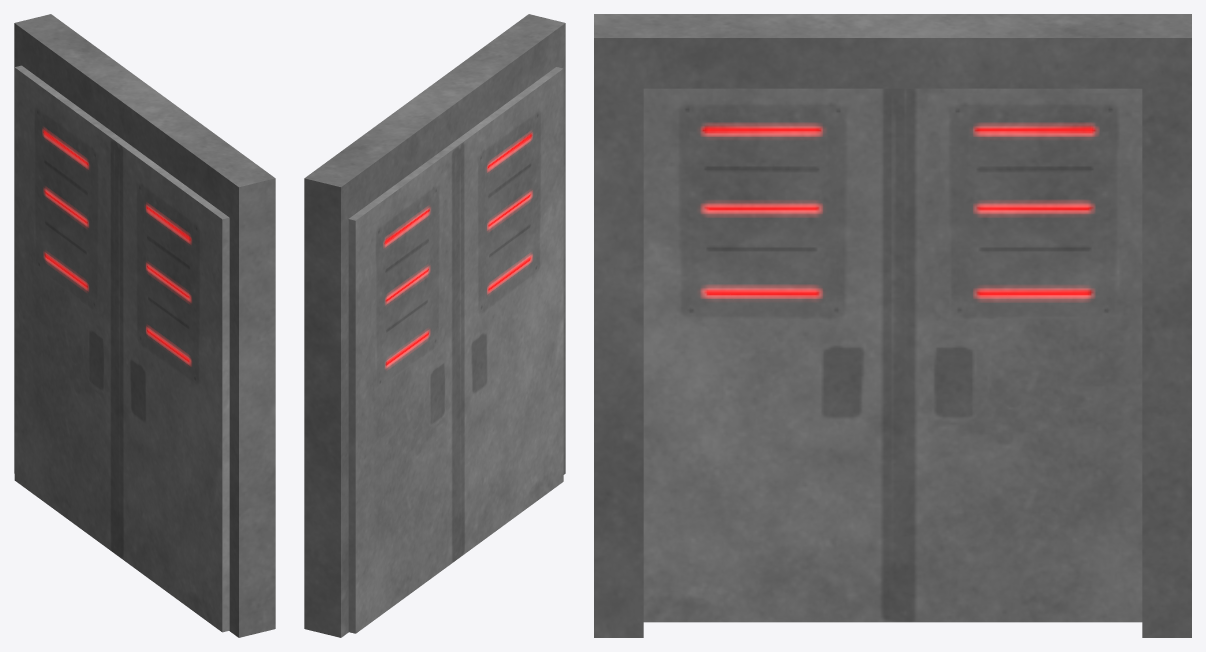
File: dooor.fbx
3 renders of one model, left to right at view 1: azimuth 30°, elevation 25°; view 2: azimuth 150°, elevation 25°; view 3: azimuth 270°, elevation 25°, orthographic. The views are drawn at different scales.
Parts seen in each view (by area): view 1: Cube.105, Cube.065, Cube.064; view 2: Cube.065, Cube.105, Cube.064; view 3: Cube.105, Cube.065, Cube.064.
Boxes of the visible parts, box(x1,y1,x2,y2) form: Cube.105: box(118, 141, 229, 632); Cube.065: box(14, 65, 125, 555); Cube.064: box(14, 14, 275, 637); Cube.065: box(348, 143, 459, 633); Cube.105: box(453, 67, 563, 557); Cube.064: box(304, 14, 565, 637); Cube.105: box(643, 88, 895, 622); Cube.065: box(895, 88, 1142, 622); Cube.064: box(594, 14, 1191, 637).
Bounding box in the file's own units: 23.01 × 225 × 203.
Materials: 1 (1 with a texture image).
